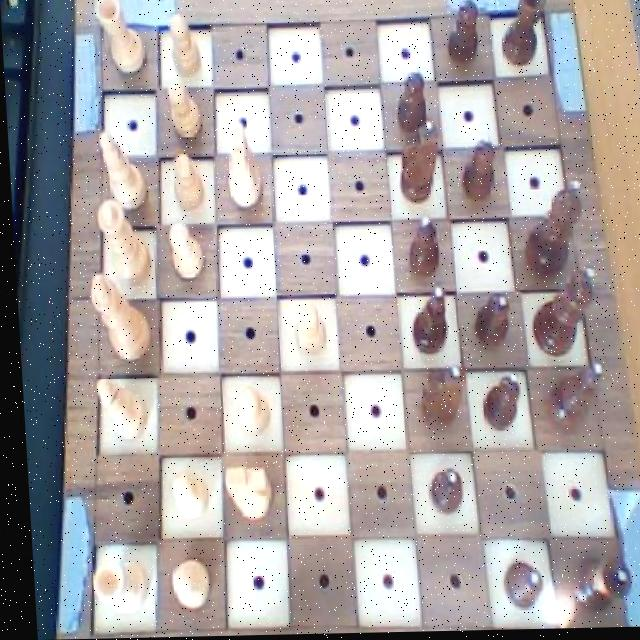bishop: (537, 362, 603, 439), (405, 286, 451, 359)
black-bishop: (521, 265, 599, 358)
black-king: (391, 119, 444, 208), (411, 363, 465, 435)
black-knight: (457, 131, 501, 208), (437, 0, 484, 69), (466, 287, 511, 355), (392, 63, 431, 138), (473, 370, 517, 435), (399, 216, 440, 280), (493, 559, 540, 612), (417, 465, 461, 518)
black-pawn: (515, 176, 589, 282)
black-queen: (562, 551, 631, 621), (496, 0, 552, 69)
black-rook: (93, 125, 149, 217), (88, 373, 147, 447)
white-bishop: (80, 270, 149, 367)
white-king: (220, 114, 264, 212), (216, 460, 271, 528)
white-knight: (162, 215, 206, 287), (162, 465, 209, 527), (163, 12, 205, 81), (161, 552, 207, 614), (285, 299, 328, 363), (165, 77, 205, 141), (165, 150, 204, 215), (228, 380, 270, 440)
white-pawn: (89, 196, 149, 293)
white-queen: (96, 0, 153, 81), (80, 553, 147, 616)
